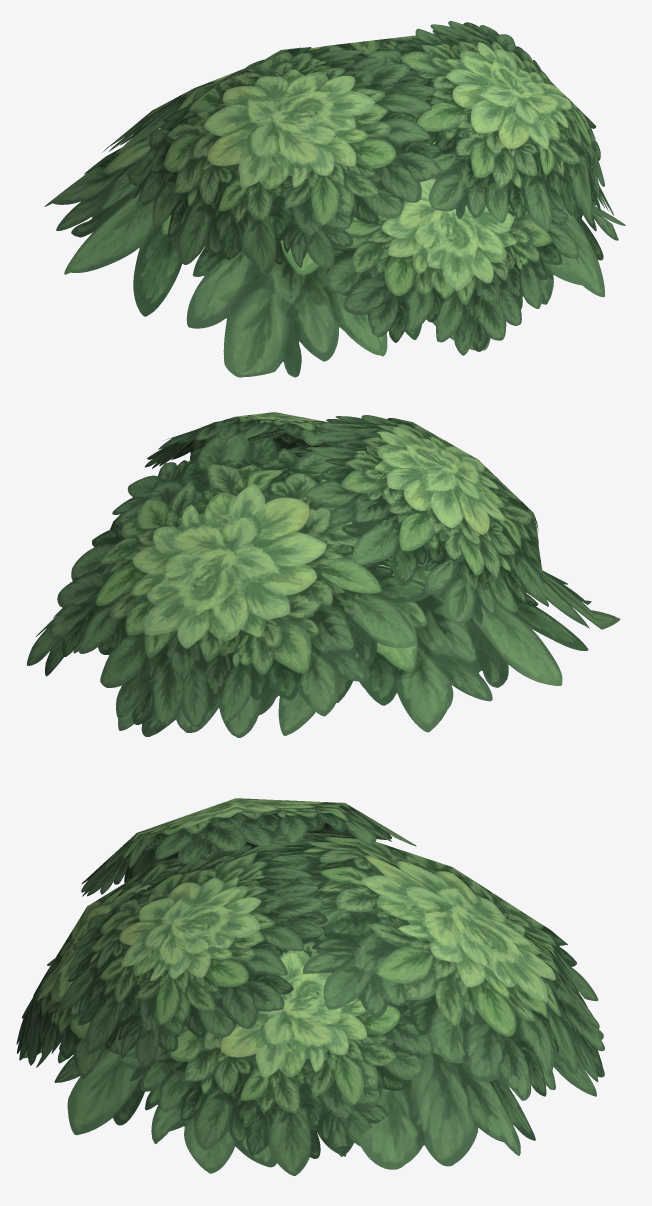
Rendered from F_Bush_01.fbx.
3 renders of one model, top to bottom at view 1: azimuth 30°, elevation 25°; view 2: azimuth 150°, elevation 25°; view 3: azimuth 270°, elevation 25°, orthographic. The views are drawn at different scales.
Visible parts, largest first — view 1: F_Bush_01; view 2: F_Bush_01; view 3: F_Bush_01.
Part boxes in pixels (box(x1,y1,x2,y2)): F_Bush_01: box(44, 21, 625, 377); F_Bush_01: box(27, 412, 620, 737); F_Bush_01: box(16, 798, 604, 1175).
Bounding box in the file's own units: 389 × 157 × 373.
